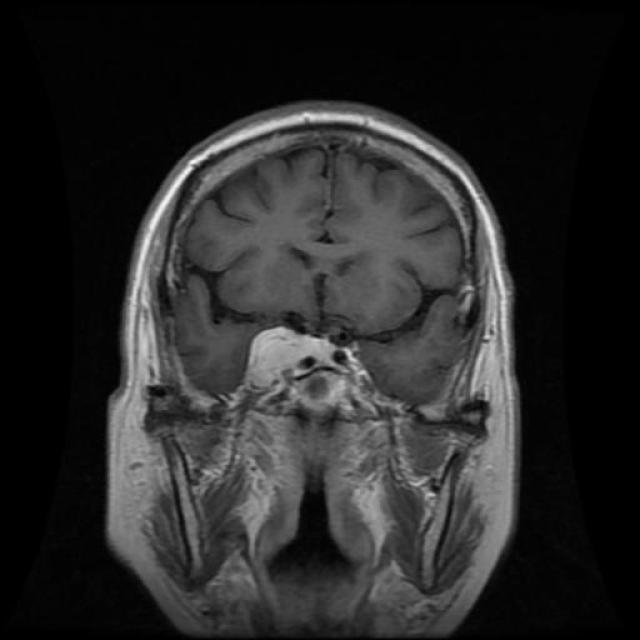meningioma: (248, 326, 312, 388)
